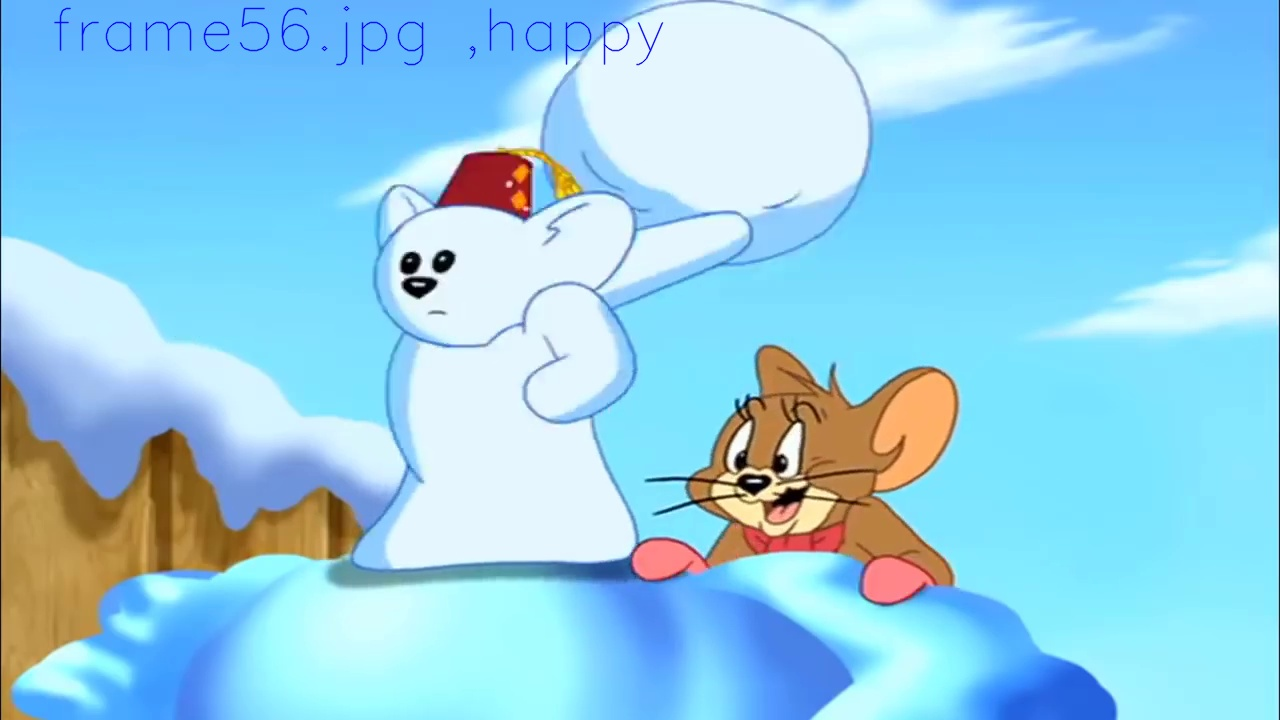happy: (722, 397, 821, 537)
